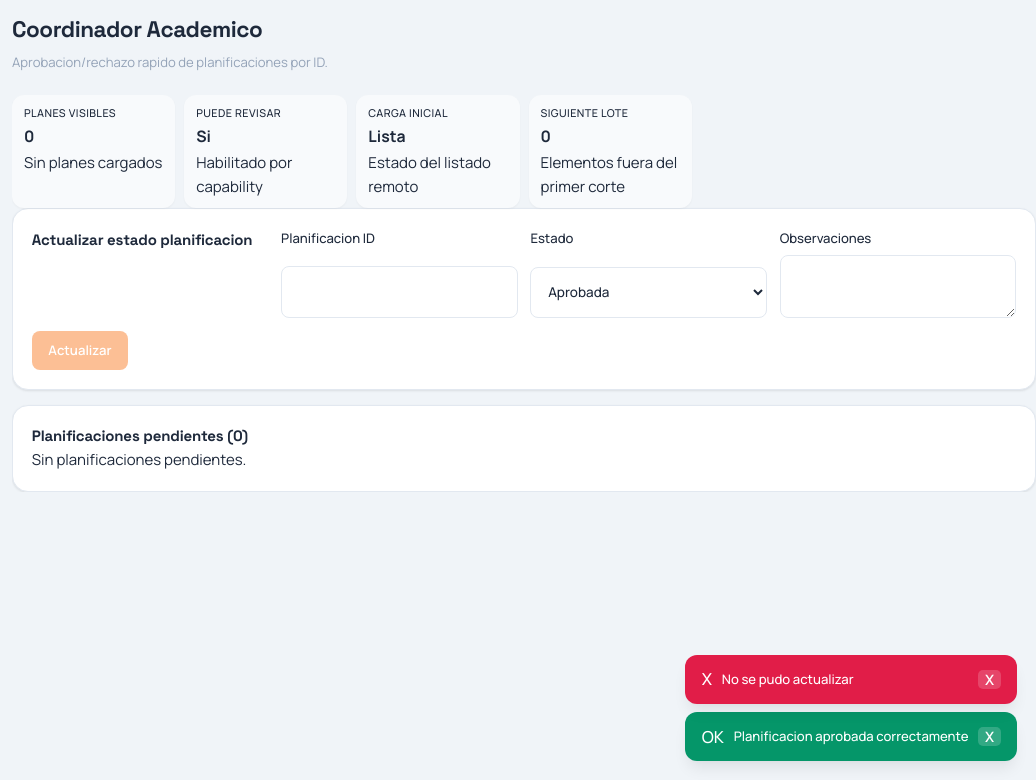
Test: CoordinadorAcademicoPage › shows saving state while planning update is in progress
Expected: the text "Sin planificaciones pendientes." is shown, [32,449,246,470]
Step 1. Type "9" into the number field labelled "Planificacion ID" → [399, 292], box [281,266,518,318]
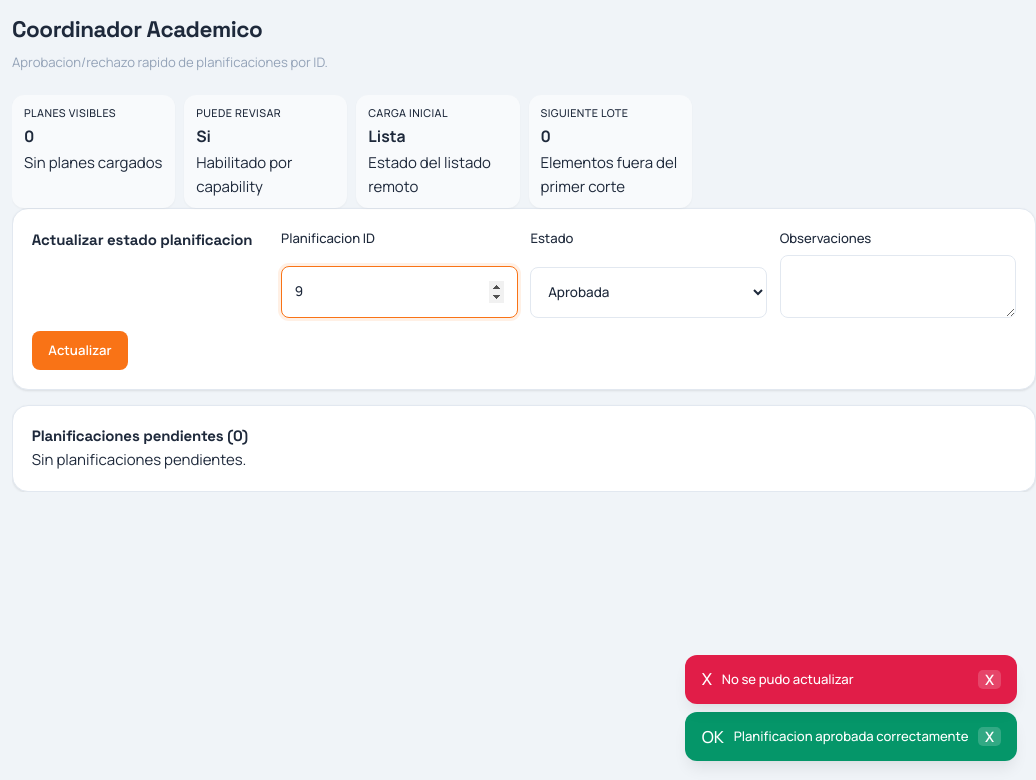
Step 2. Click the button "Actualizar" → [80, 350], box [32,331,128,370]
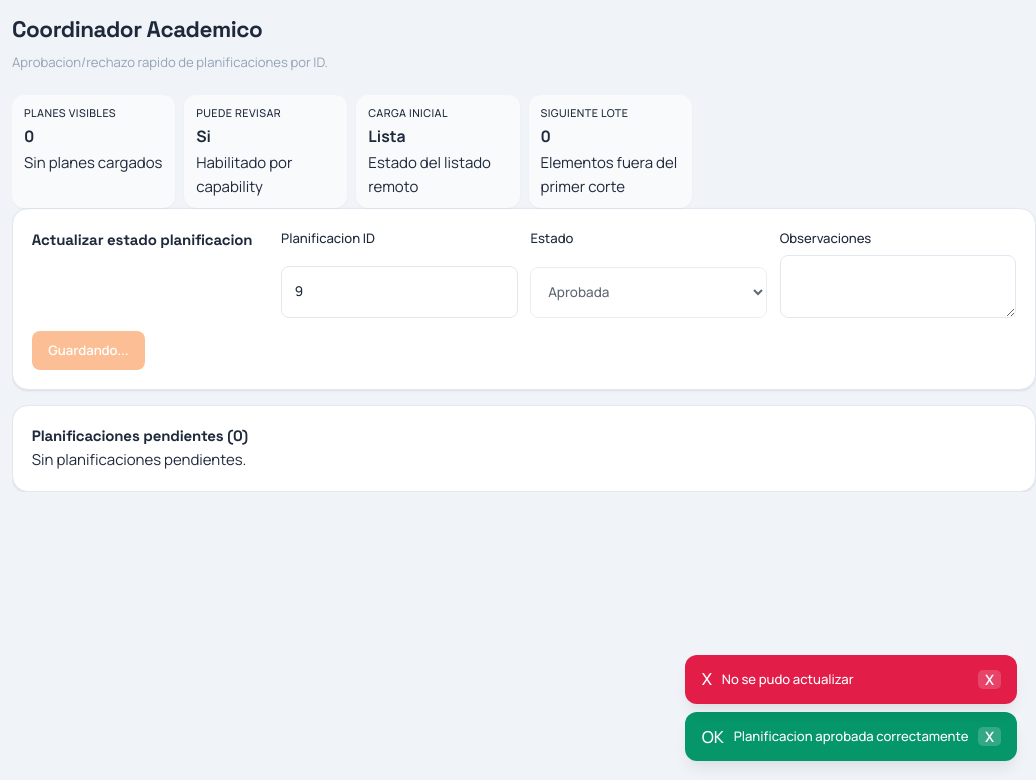
Now the button "Guardando..." is disabled, box [32,331,145,370]
